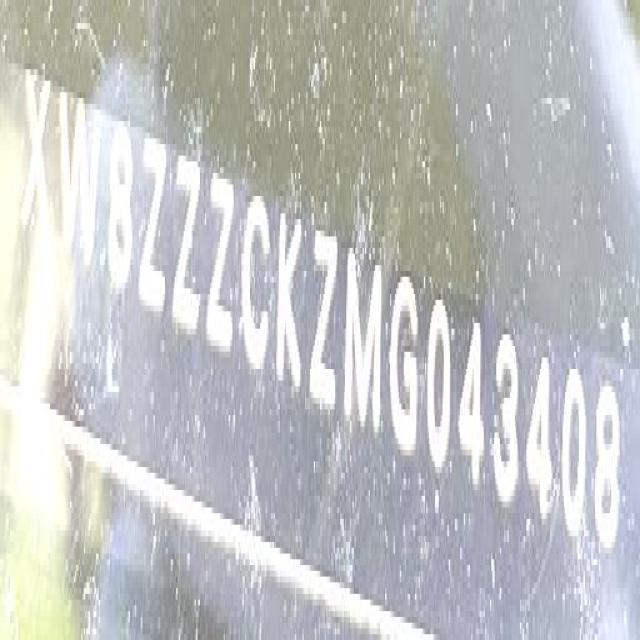0: (426, 287, 454, 476), (564, 364, 590, 545)
3: (492, 324, 522, 510)
4: (526, 350, 556, 536), (458, 306, 483, 490)
8: (106, 121, 134, 298), (597, 377, 623, 556)
C: (240, 183, 273, 380)
G: (391, 266, 423, 464)
K: (277, 201, 305, 407)
M: (343, 238, 384, 444)
W: (58, 87, 101, 276)
X: (20, 72, 56, 256)
Z: (310, 218, 339, 427), (140, 133, 170, 320), (174, 152, 203, 344), (207, 165, 235, 362)
